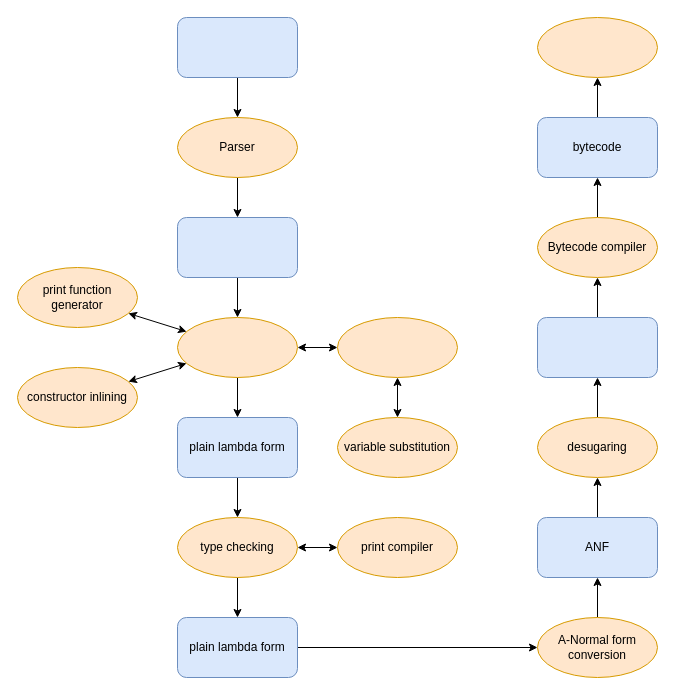
This 675x695 diagram has some shape labels left out. Here are the shapes that lost their labels. From the top down, the centre of each, then its label:
(237,47): Source
(597,47): CEKF runtime
(237,247): AST
(237,347): lambda conversion
(397,347): TPMC
(597,347): Desugared ANF
